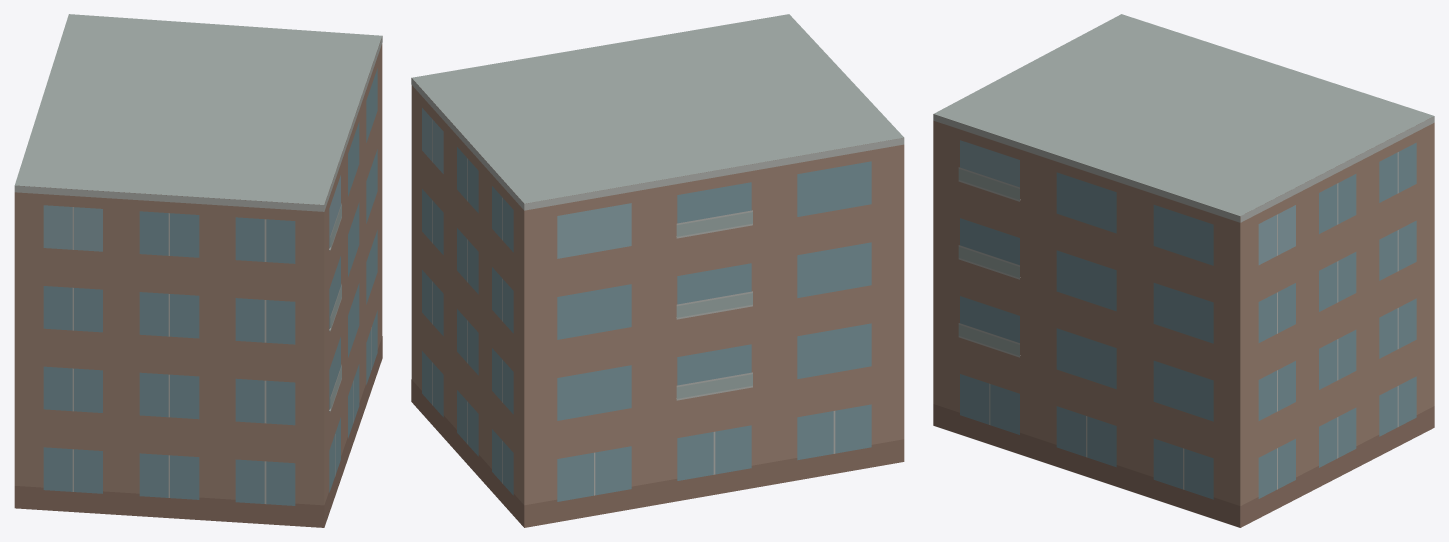
Rendered from survey-upis-32847276.glb.
3 views of the same model, side by side, from view 1: azimuth 30°, elevation 25°; view 2: azimuth 150°, elevation 25°; view 3: azimuth 270°, elevation 25° (orthographic). The views are drawn at different scales.
Visible parts, largest first — view 1: survey-upis-32847276.tmp; view 2: survey-upis-32847276.tmp; view 3: survey-upis-32847276.tmp.
Part boxes in pixels (x1,y1,x2,y2): survey-upis-32847276.tmp: [14, 14, 382, 527]; survey-upis-32847276.tmp: [411, 14, 904, 527]; survey-upis-32847276.tmp: [933, 14, 1434, 527].
Size of the model in its own units: 16.01 by 11.5 by 16.77.
